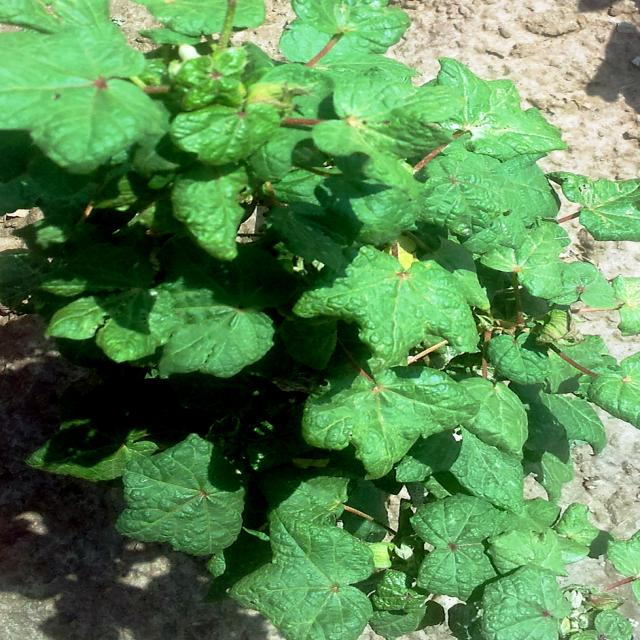Leaf Curl Virus: (0, 418, 541, 640), (288, 260, 559, 362)
